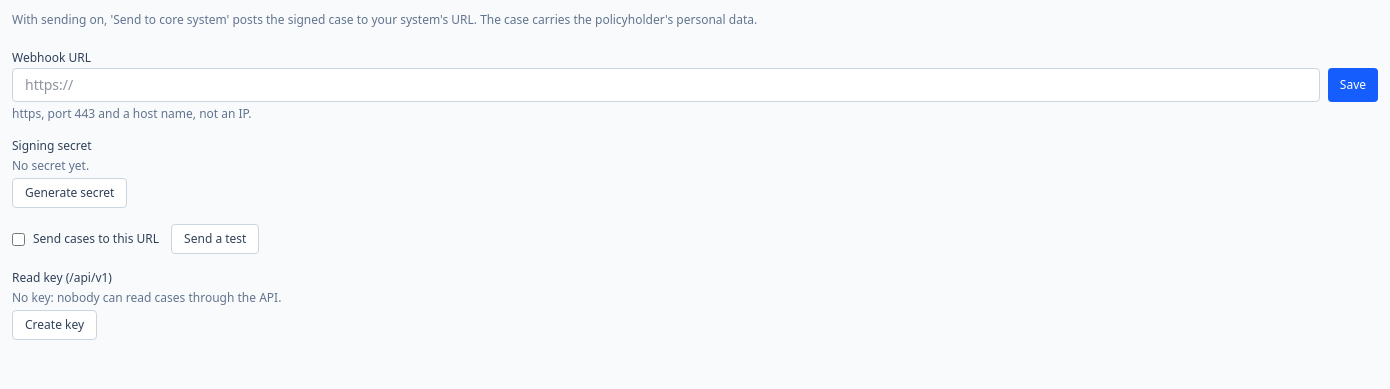
CoreSyncPanel › un rechazo del servidor se lee en en-US
Click the button "Send a test" at (215, 239), box 171,224 -> 259,254
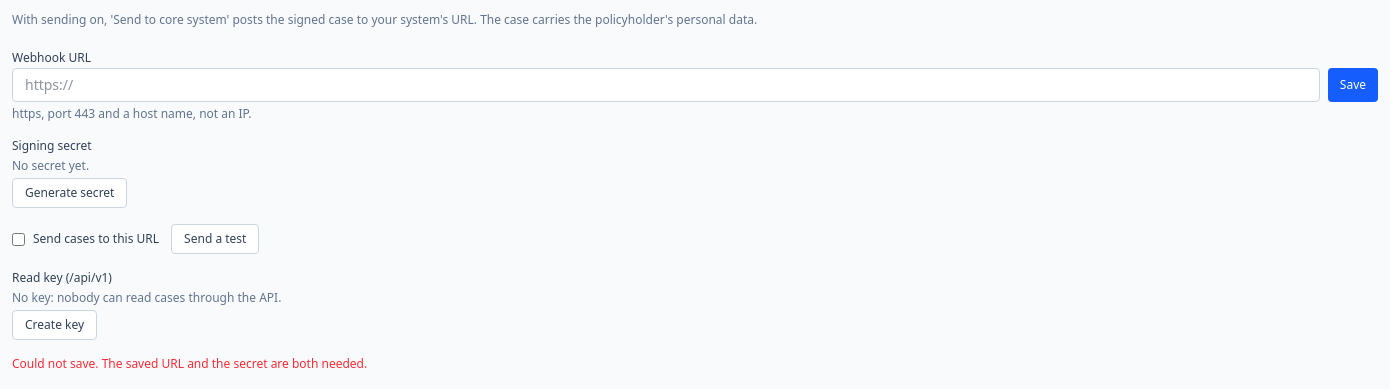
Check: the message reads "Could not save. The saved URL and the secret are both needed.", box 12,355 -> 367,372
